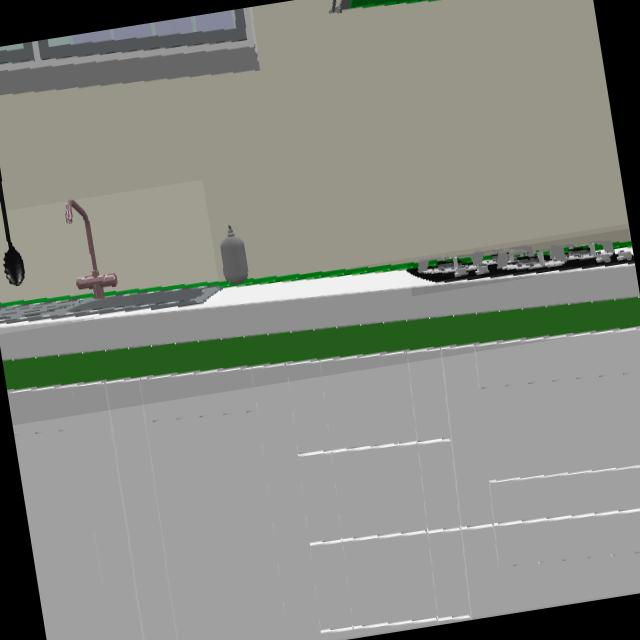cabinet: (7, 328, 640, 640)
countertop: (0, 264, 640, 390)
sink: (0, 200, 220, 325)
stove: (409, 241, 632, 282)
